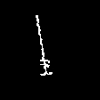treble_crochet: (36, 15, 51, 74)
